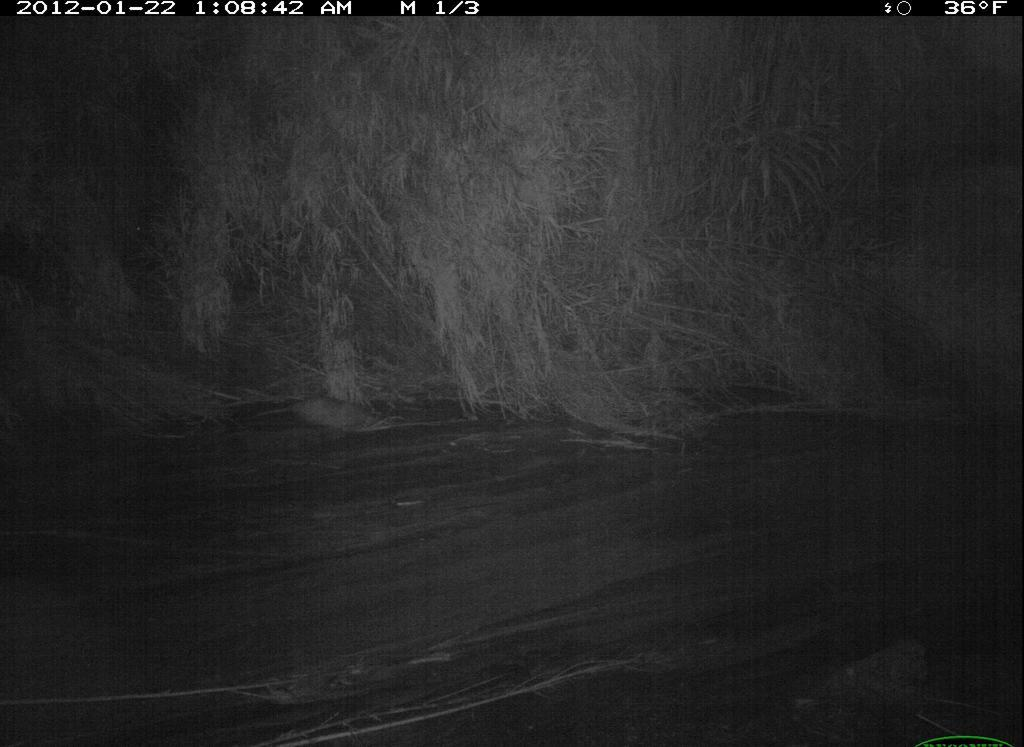opossum: (257, 393, 386, 434)
